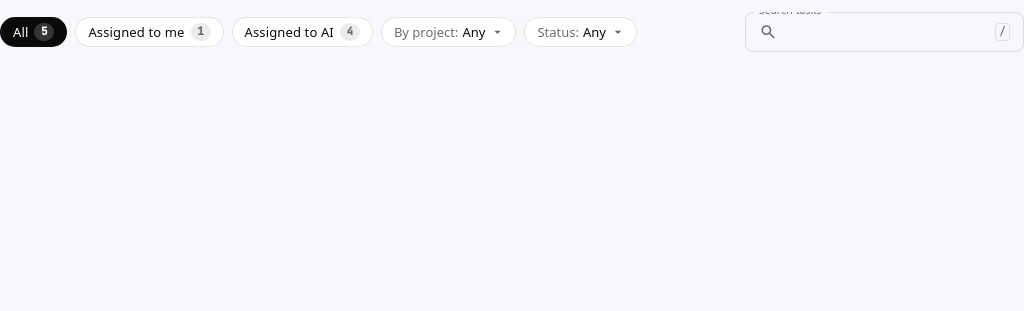
TaskFiltersBar › clicking DropdownChip for status opens the menu
Click the button "Status: Any".
click(581, 32)  # box 524,17 -> 637,47
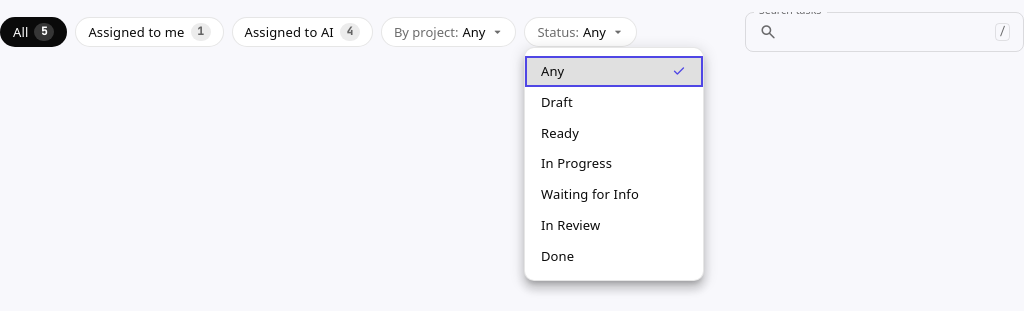
Expected: the menu item "Draft" is shown, 541,93 -> 573,111
